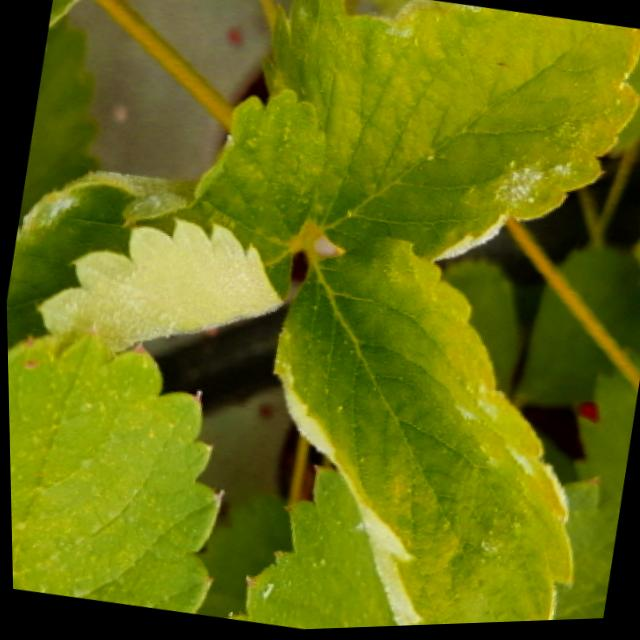Powdery Mildew Leaf: (267, 237, 568, 629), (263, 0, 640, 265), (5, 88, 327, 361)
